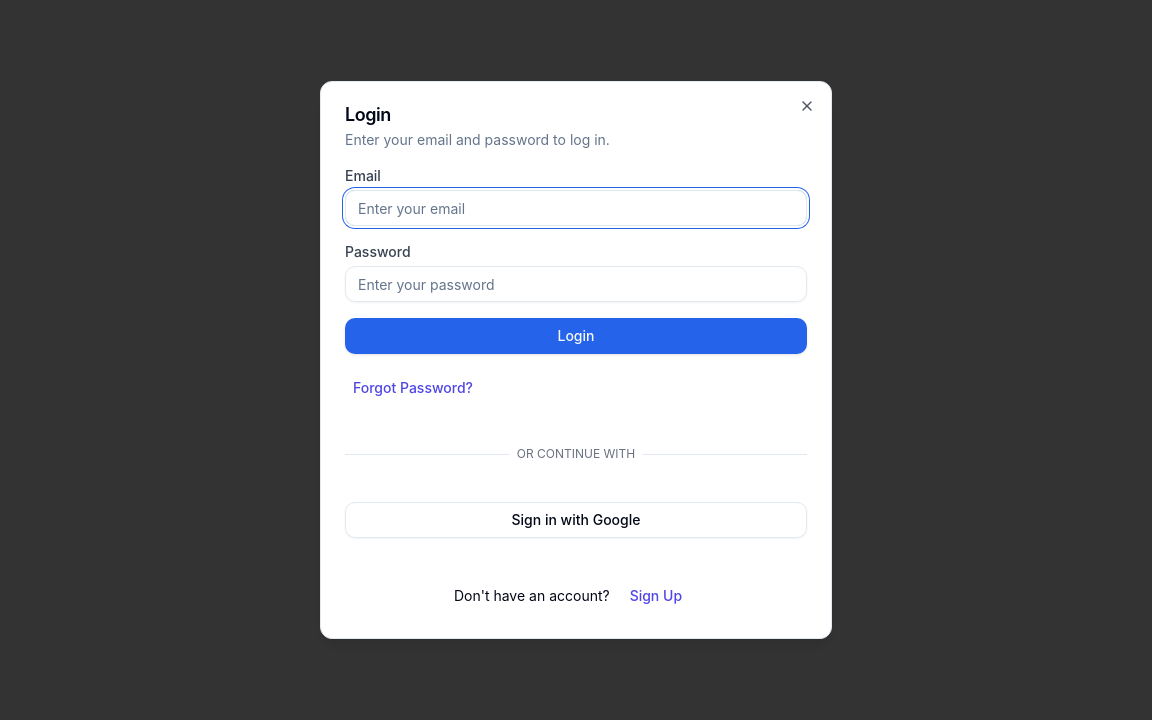
Test: AuthModal › handles successful login submission
This screenshot has width=1152, height=720.
Type "test@example.com" into the field with placeholder "Enter your email" at (576, 208), box [345,190,807,226]
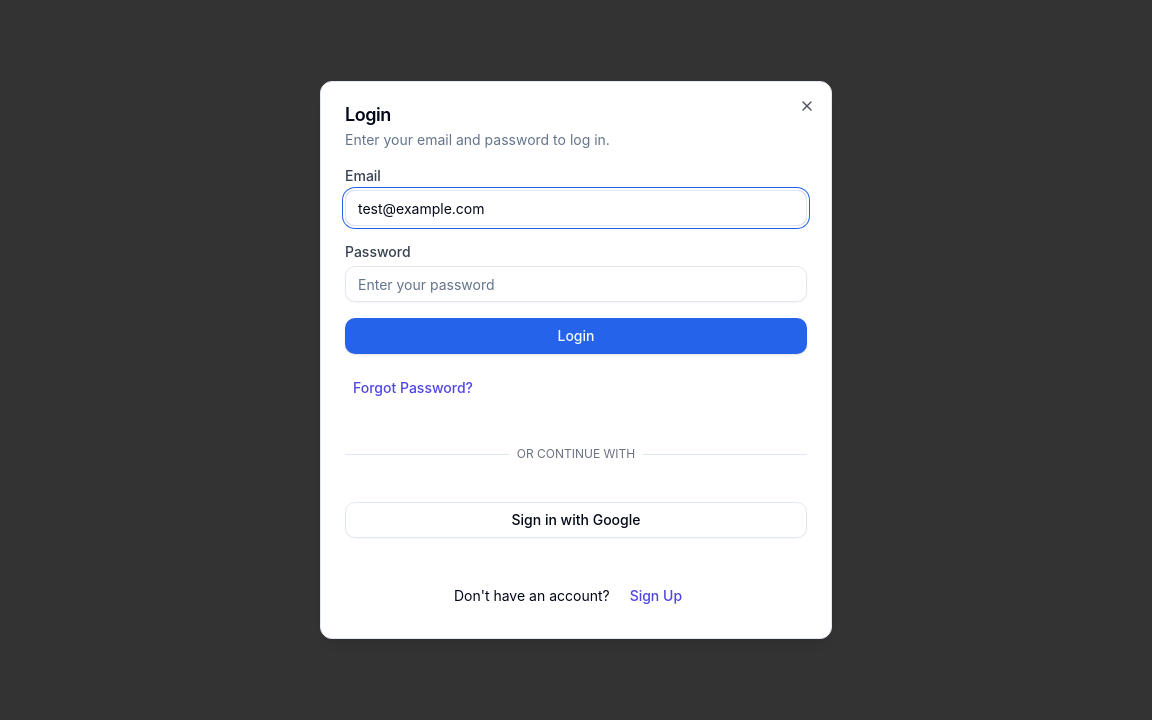
Type "password123" into the password field with placeholder "Enter your password" at (576, 284), box [345,266,807,302]
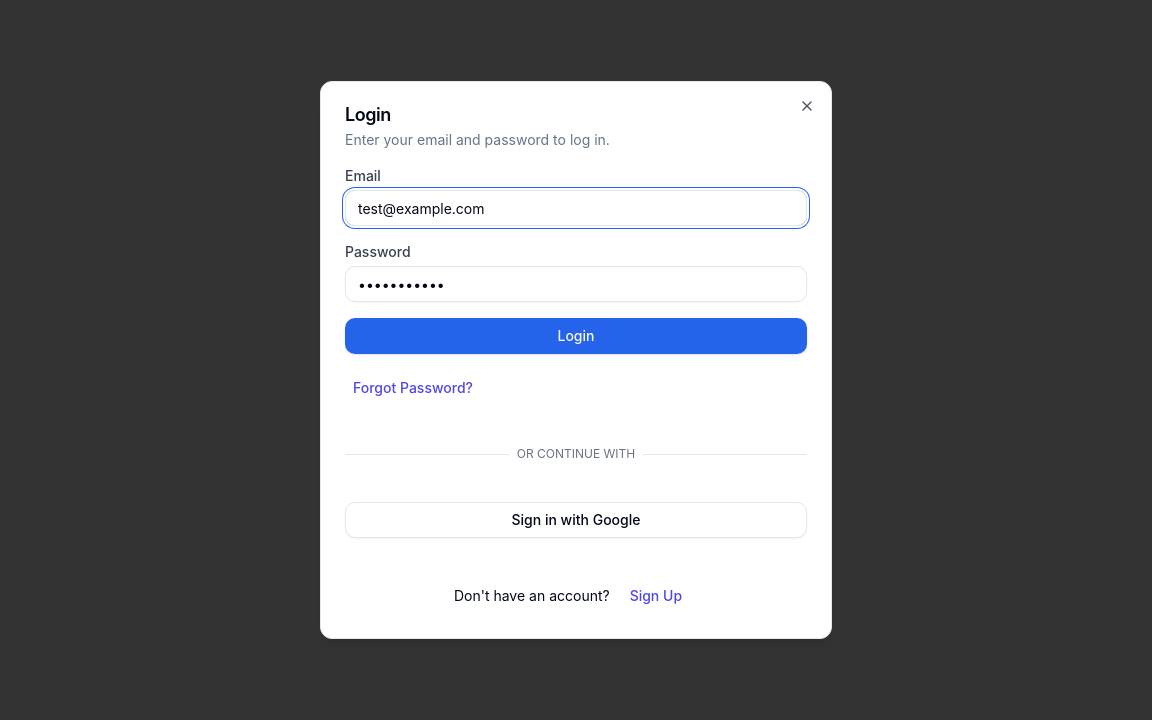
Click the button "Login" at (576, 336), box [345,318,807,354]
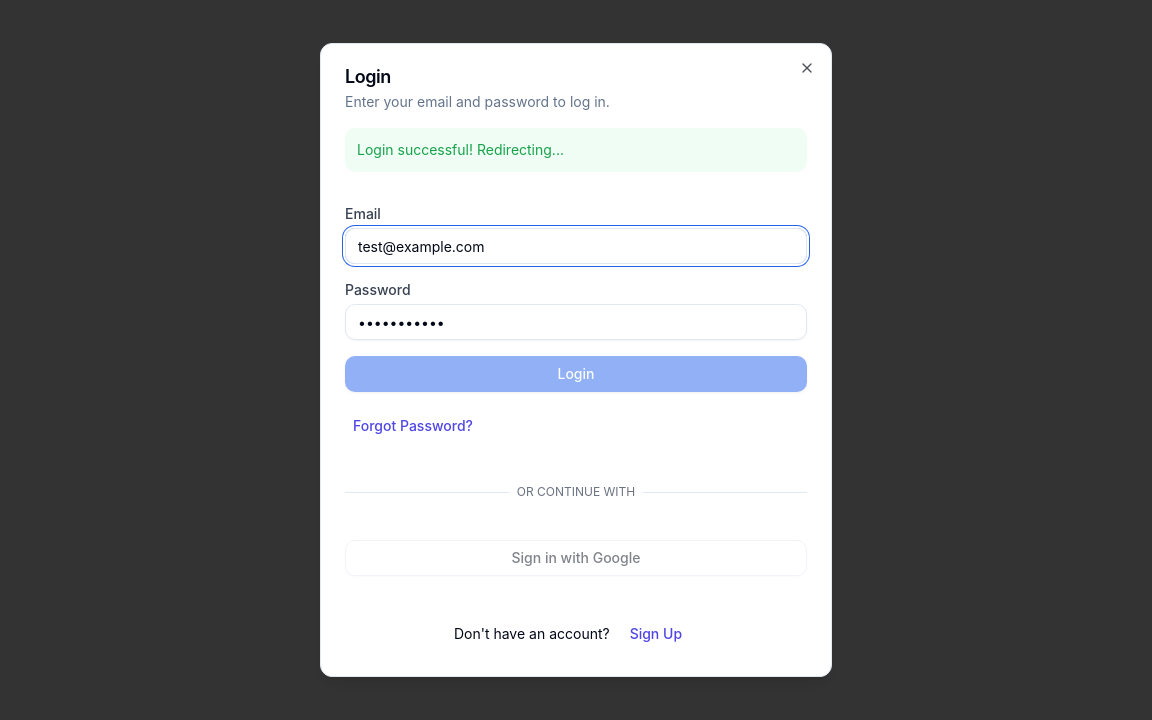
Check: the text "Login successful! Redirecting..." is shown, box [345,128,807,172]
